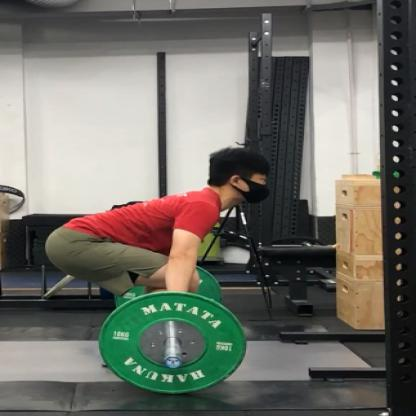Barbell: (90, 284, 253, 400)
